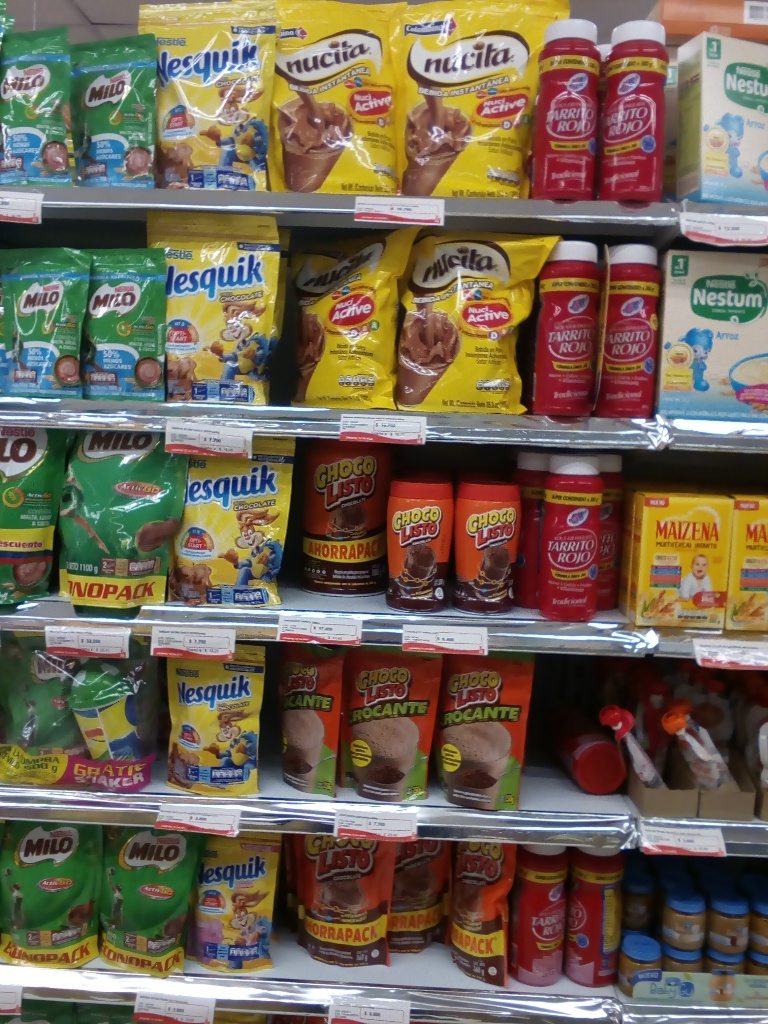COL0170102DYP25000: (278, 639, 348, 801)
COL0170103DYP36000: (282, 828, 400, 978)
COL0170103TRR00100: (301, 440, 392, 599)
COL0170103TRR30000: (386, 474, 454, 616)
COL0170203DYP50000: (4, 633, 92, 788)
COL0170205DYP20000: (1, 33, 80, 188)
COL0170303DYP20000: (165, 644, 267, 798)
COL0170305DYP20000: (191, 830, 290, 963)
